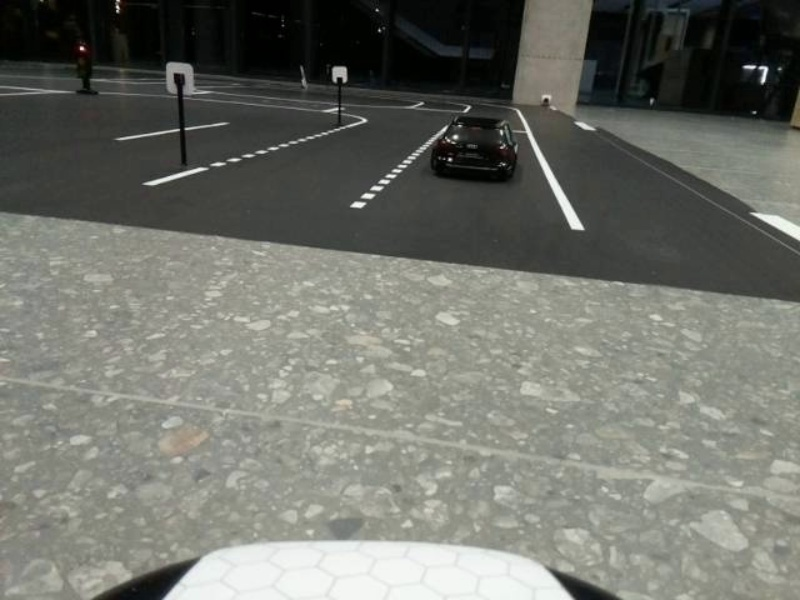car: (419, 103, 539, 187)
